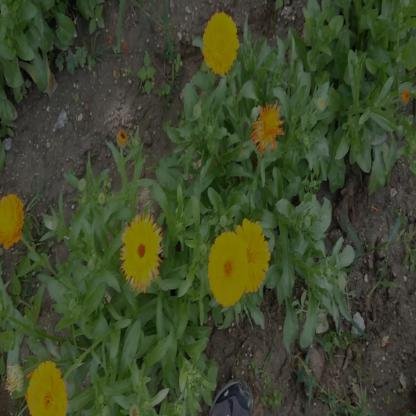marigold: (210, 231, 255, 307), (230, 221, 267, 297), (120, 220, 160, 288), (204, 15, 237, 72), (29, 364, 65, 412), (253, 104, 282, 149), (0, 193, 24, 247)
